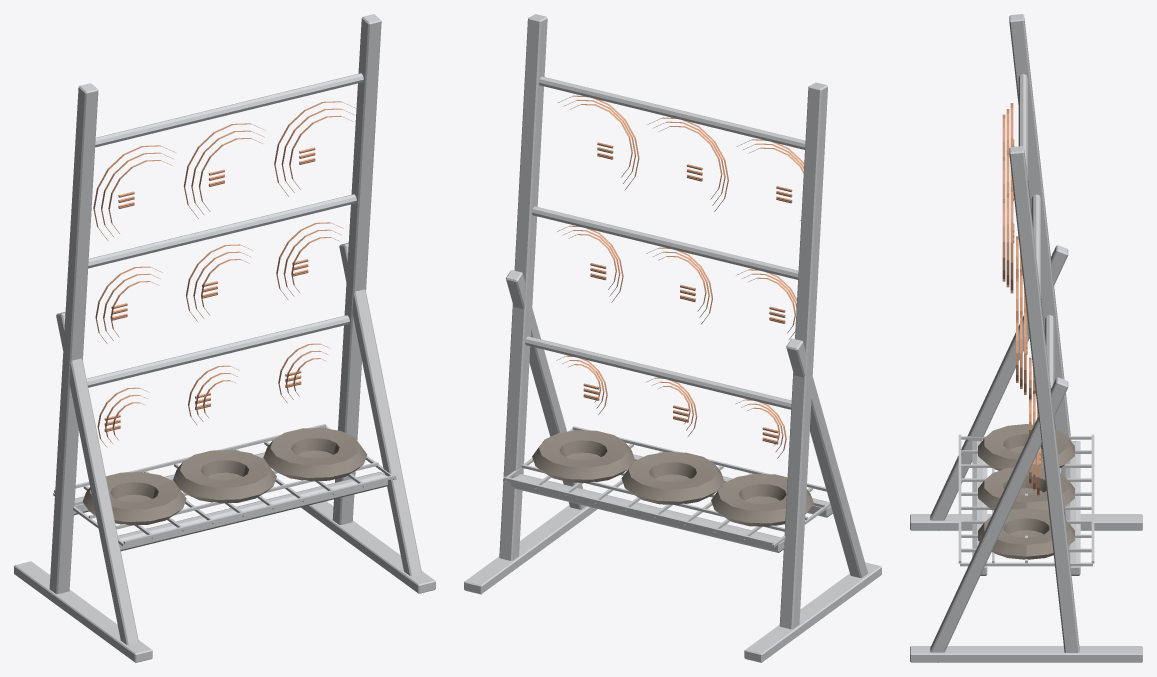
Rendered from garden-centre-and-florist-wreath-frame-rack-97c08d3b__17768.glb.
The picture shows the model from 3 angles, left to right: view 1: azimuth 30°, elevation 25°; view 2: azimuth 150°, elevation 25°; view 3: azimuth 270°, elevation 25°; orthographic projection. The views are drawn at different scales.
Visible parts, largest first — view 1: wreath-frame-rack; view 2: wreath-frame-rack; view 3: wreath-frame-rack.
Boxes of the visible parts, x1=… form: wreath-frame-rack: x1=14, y1=14, x2=435, y2=662; wreath-frame-rack: x1=464, y1=14, x2=881, y2=662; wreath-frame-rack: x1=910, y1=14, x2=1142, y2=662.
Size of the model in its own units: 0.9999 by 1.7 by 0.7001.
